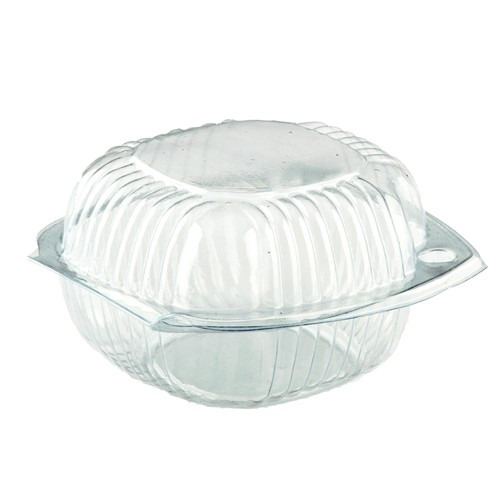PlasticBox: (21, 113, 490, 412)
